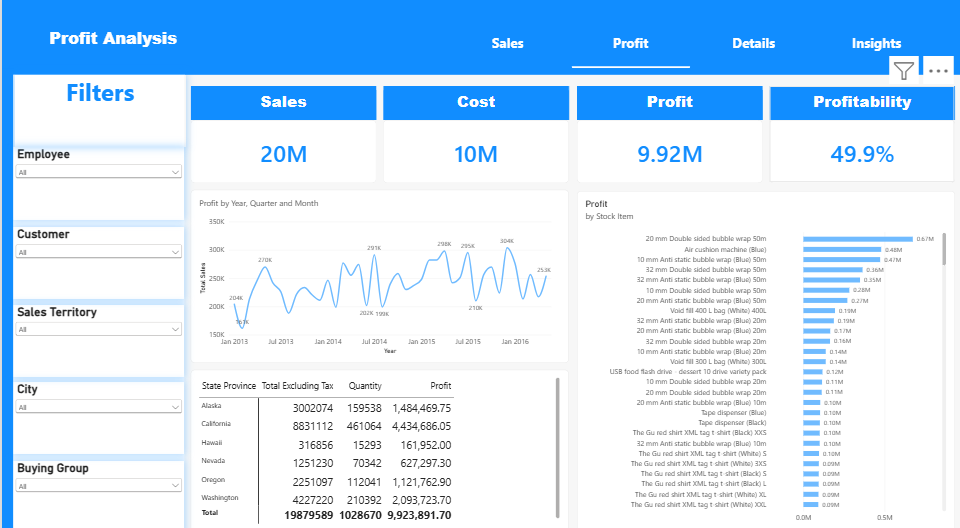

Layout of this report page (visuals, bound fields, positions):
{"tool":"powerbi","page":{"name":"Profit","canvas":[1920,1080],"ordinal":1},"visuals":[{"type":"shape","box":[0,0,1919.2,157.7],"z":0},{"type":"shape","box":[0,144.2,23.1,936.5],"z":1000},{"type":"textbox","box":[0,60.7,444.6,64.3],"z":2000},{"type":"shape","box":[23.1,157.7,342.3,923.1],"z":3000},{"type":"cardVisual","title":"Sales","fields":{"Data":["Sum(FactSale.Total Excluding Tax)"]},"box":[376.9,178.8,371.2,194.2],"z":4000},{"type":"cardVisual","title":"Cost","fields":{"Data":["Sum(FactSale.Cost)"]},"box":[761.5,178.8,371.2,194.2],"z":5000},{"type":"cardVisual","title":"Profit","fields":{"Data":["Sum(FactSale.Profit)"]},"box":[1150,178.8,371.2,194.2],"z":6000},{"type":"cardVisual","title":"Profitability","fields":{"Data":["FactSale.profatability"]},"box":[1534.6,178.8,371.2,194.2],"z":7000},{"type":"lineChart","fields":{"Category":["DimDate.Date.Variation.Date Hierarchy.Year","DimDate.Date.Variation.Date Hierarchy.Quarter","DimDate.Date.Variation.Date Hierarchy.Month","DimDate.Date.Variation.Date Hierarchy.Day"],"Y":["Sum(FactSale.Profit)"]},"box":[376.9,388.5,755.8,346.2],"z":8000},{"type":"pivotTable","fields":{"Rows":["DinCity.State Province"],"Values":["Sum(FactSale.Total Excluding Tax)","Sum(FactSale.Quantity)","Sum(FactSale.Profit)"]},"box":[376.9,748.1,755.8,325],"z":9000},{"type":"barChart","fields":{"Category":["DimStockitem.Stock Item"],"Y":["Sum(FactSale.Profit)"]},"box":[1150.6,389,755.8,684.6],"z":10000},{"type":"slicer","fields":{"Values":["DimEmployee.Employee"]},"box":[23.1,301.9,342.3,145],"z":11000},{"type":"slicer","fields":{"Values":["DimCustomer.Customer"]},"box":[23.1,461.5,342.3,144.2],"z":12000},{"type":"slicer","fields":{"Values":["DinCity.Sales Territory"]},"box":[23.1,617.3,342.3,144.2],"z":13000},{"type":"slicer","fields":{"Values":["DinCity.City"]},"box":[23.1,773.1,342.3,144.2],"z":14000},{"type":"slicer","fields":{"Values":["DimCustomer.Buying Group"]},"box":[23.1,928.8,342.3,144.2],"z":15000},{"type":"textbox","box":[24,158,342,144],"z":16000},{"type":"pageNavigator","box":[892,42,978,102],"z":17000}]}

Visuals, with their boxes in screenshot pixels (x1, y1, x2, y2), scaled from the page's 1920x1080 canvas onto the 960x528 screenshot:
shape: (0,0,959,77)
shape: (0,70,12,527)
textbox: (0,30,222,61)
shape: (12,77,183,527)
"Sales" cardVisual: (188,87,374,182)
"Cost" cardVisual: (381,87,566,182)
"Profit" cardVisual: (575,87,761,182)
"Profitability" cardVisual: (767,87,953,182)
lineChart - DimDate.Date.Variation.Date Hierarchy.Year x DimDate.Date.Variation.Date Hierarchy.Quarter: (188,190,566,359)
pivotTable - DinCity.State Province x Sum(FactSale.Total Excluding Tax): (188,366,566,525)
barChart - DimStockitem.Stock Item x Sum(FactSale.Profit): (575,190,953,525)
slicer - DimEmployee.Employee: (12,148,183,218)
slicer - DimCustomer.Customer: (12,226,183,296)
slicer - DinCity.Sales Territory: (12,302,183,372)
slicer - DinCity.City: (12,378,183,448)
slicer - DimCustomer.Buying Group: (12,454,183,525)
textbox: (12,77,183,148)
pageNavigator: (446,21,935,70)
